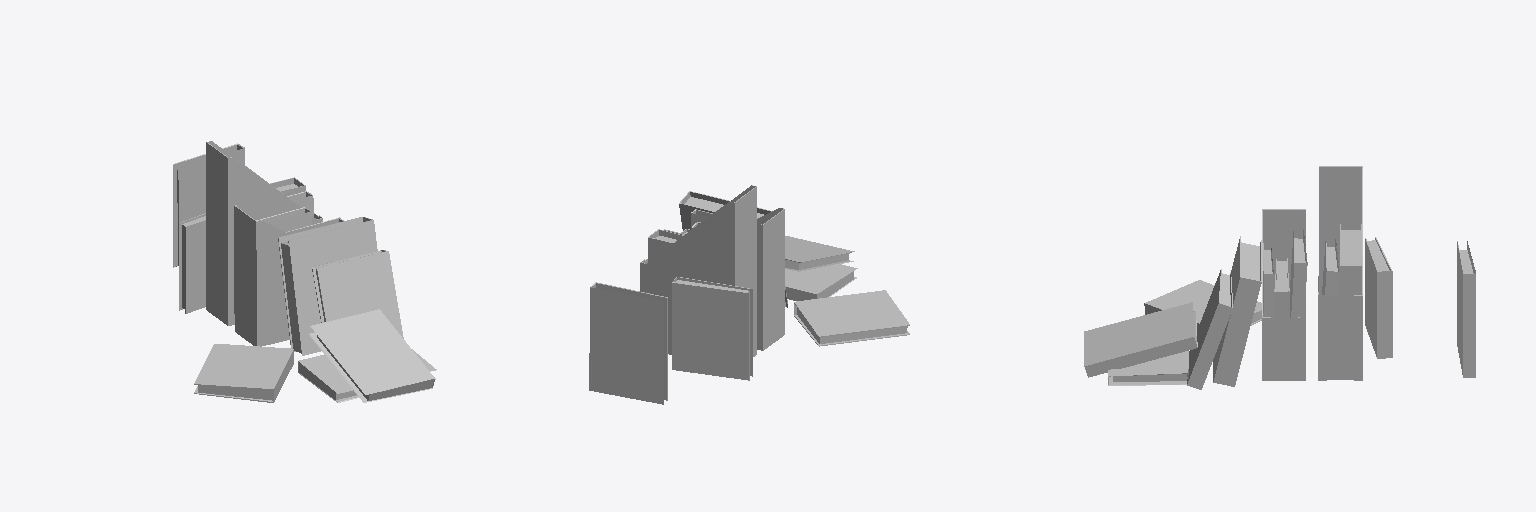
Rendered from Files_merged_a.obj.
3 renders of one model, left to right at view 1: azimuth 30°, elevation 25°; view 2: azimuth 150°, elevation 25°; view 3: azimuth 270°, elevation 25°, orthographic.
Visible parts, largest first — view 1: FolderGroup01_LOD0_Files.002; view 2: FolderGroup01_LOD0_Files.002; view 3: FolderGroup01_LOD0_Files.002.
Boxes of the visible parts, <box> form: FolderGroup01_LOD0_Files.002: <box>173,141,436,402</box>; FolderGroup01_LOD0_Files.002: <box>589,185,909,404</box>; FolderGroup01_LOD0_Files.002: <box>1084,166,1475,389</box>.
Bounding box in the file's own units: 0.6082 × 0.4867 × 1.01.